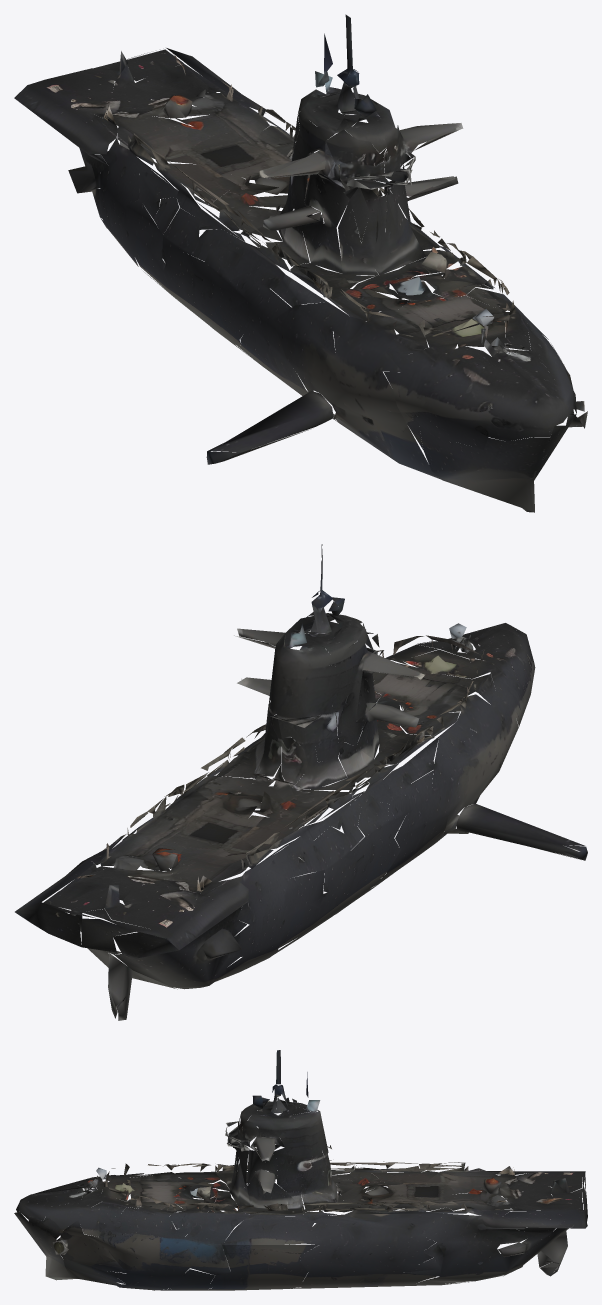
Rendered from submarine_lod1.glb.
3 renders of one model, top to bottom at view 1: azimuth 30°, elevation 25°; view 2: azimuth 150°, elevation 25°; view 3: azimuth 270°, elevation 25°, orthographic. The views are drawn at different scales.
Visible parts, largest first — view 1: body; view 2: body; view 3: body.
Boxes of the visible parts, x1,y1,x2,y2 form: body: (14, 14, 587, 512); body: (15, 544, 587, 1020); body: (14, 1050, 587, 1290).
Bounding box in the file's own units: 5.24 × 5.96 × 13.09.
1 material, 1 textured.
